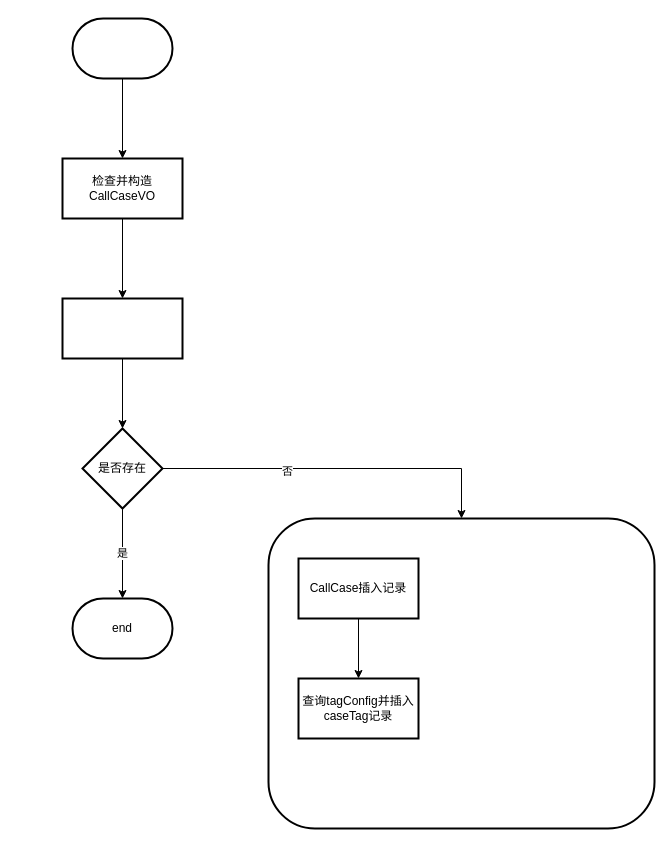
Image size: 672x846. Some labels were removed from this diagram. Each missing label, with the centre of its shape:
start: the point at 122,48
获取已存在的case （business/mobile/csetype/tag/status）: the point at 122,328
